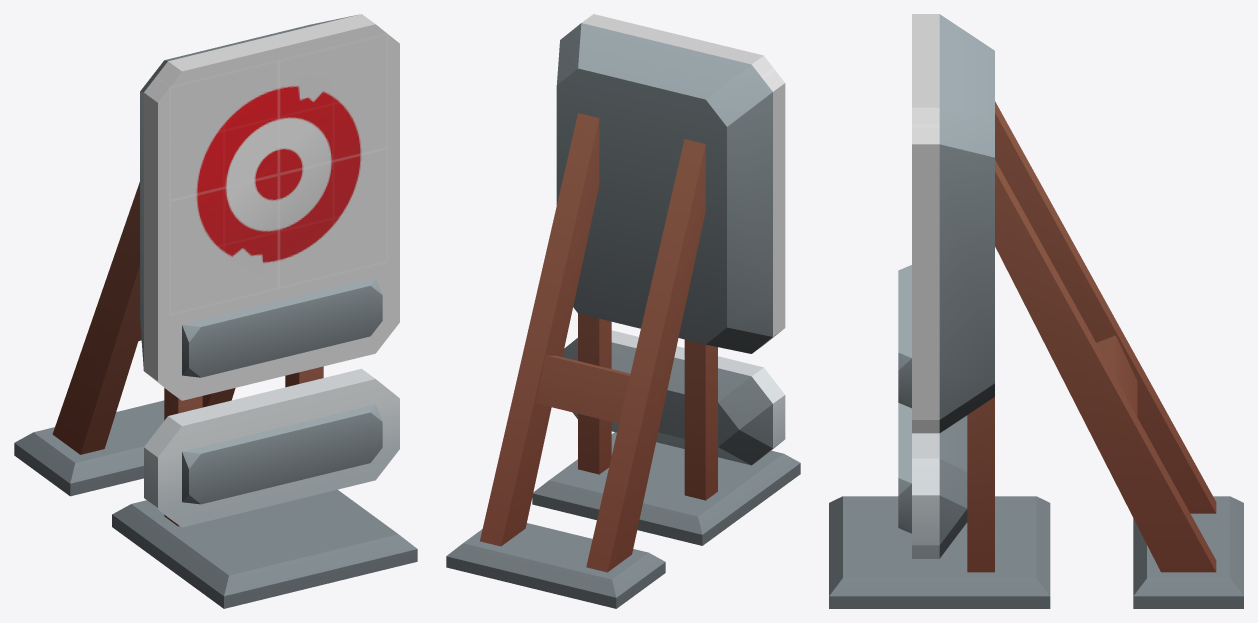
The model's file is Target_stand_B.glb.
The picture shows the model from 3 angles, left to right: view 1: azimuth 30°, elevation 25°; view 2: azimuth 150°, elevation 25°; view 3: azimuth 270°, elevation 25°; orthographic projection. The views are drawn at different scales.
Parts seen in each view (by area): view 1: target_stand_B; view 2: target_stand_B; view 3: target_stand_B.
Boxes of the visible parts, <box> form: target_stand_B: <box>14,14,417,608</box>; target_stand_B: <box>446,14,800,608</box>; target_stand_B: <box>829,14,1243,608</box>.
Bounding box in the file's own units: 1 × 2 × 1.5.
Materials: 1 (1 with a texture image).
